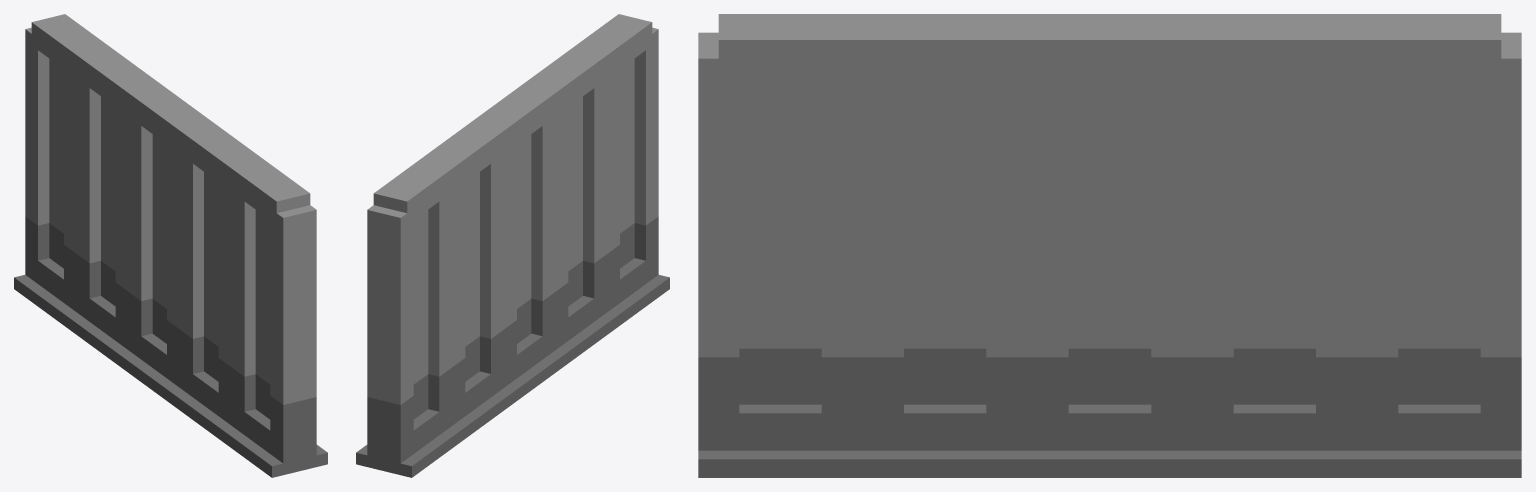
Rendered from All-23-Zabor_0.obj.
The picture shows the model from 3 angles, left to right: view 1: azimuth 30°, elevation 25°; view 2: azimuth 150°, elevation 25°; view 3: azimuth 270°, elevation 25°; orthographic projection. The views are drawn at different scales.
Parts seen in each view (by area): view 1: Zabor_0; view 2: Zabor_0; view 3: Zabor_0.
Boxes of the visible parts, x1=… form: Zabor_0: x1=14, y1=14, x2=327, y2=477; Zabor_0: x1=356, y1=14, x2=669, y2=477; Zabor_0: x1=698, y1=14, x2=1521, y2=477.
Bounding box in the file's own units: 0.5 × 2.3 × 4.
Materials: 1 (1 with a texture image).
